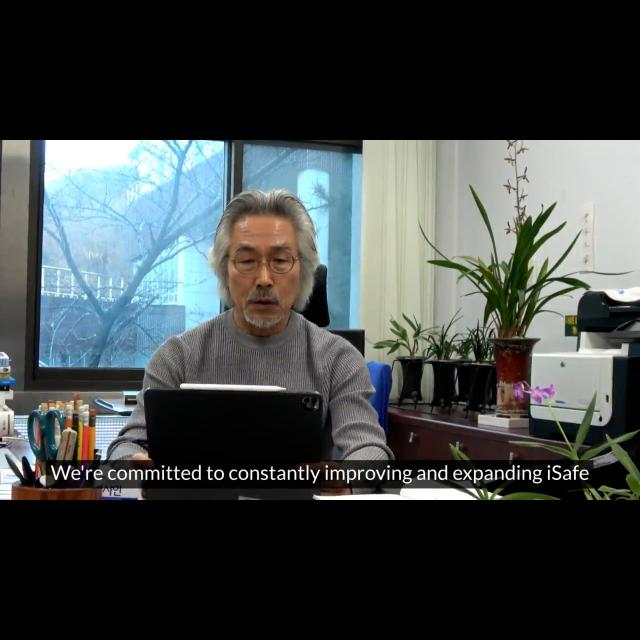vest: (141, 187, 393, 463)
